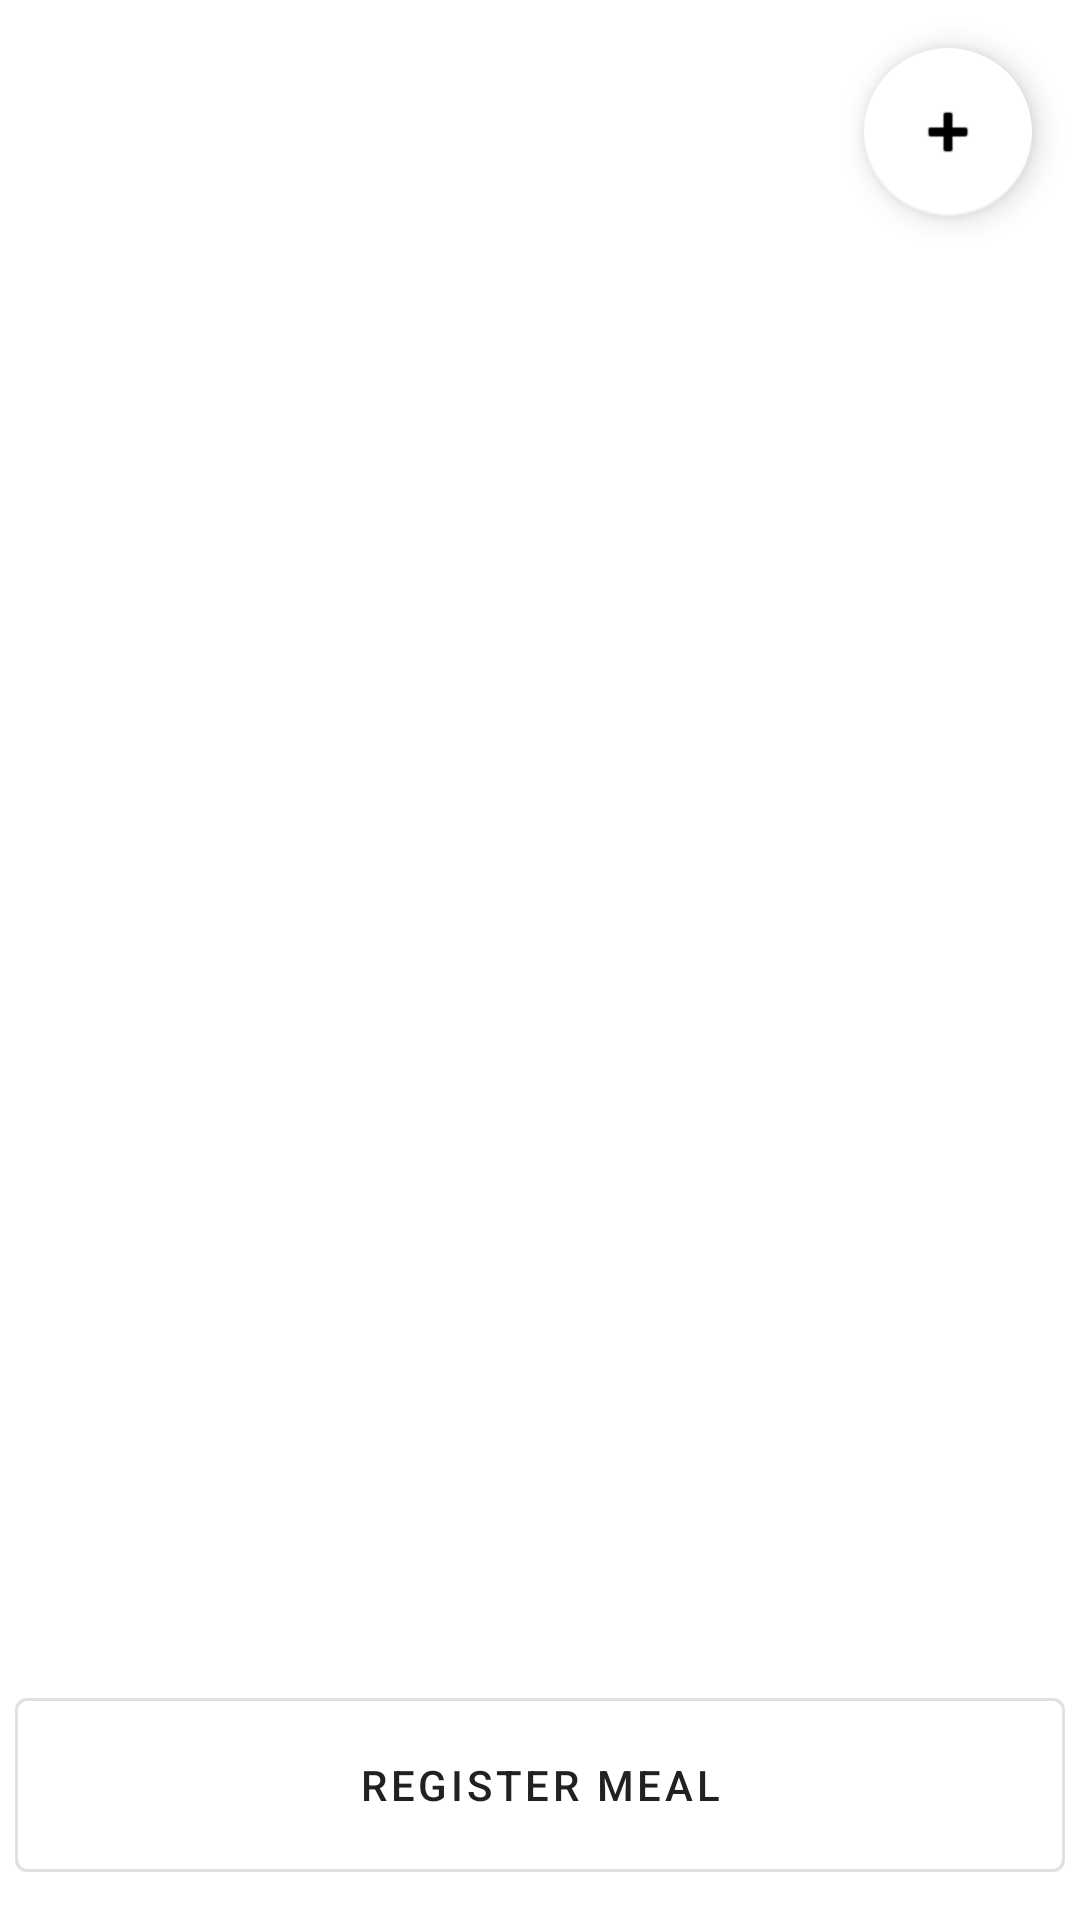

Screen size 1080w x 1920h. Icon name, then its center in pixels as (x,y):
add: (979,138)
